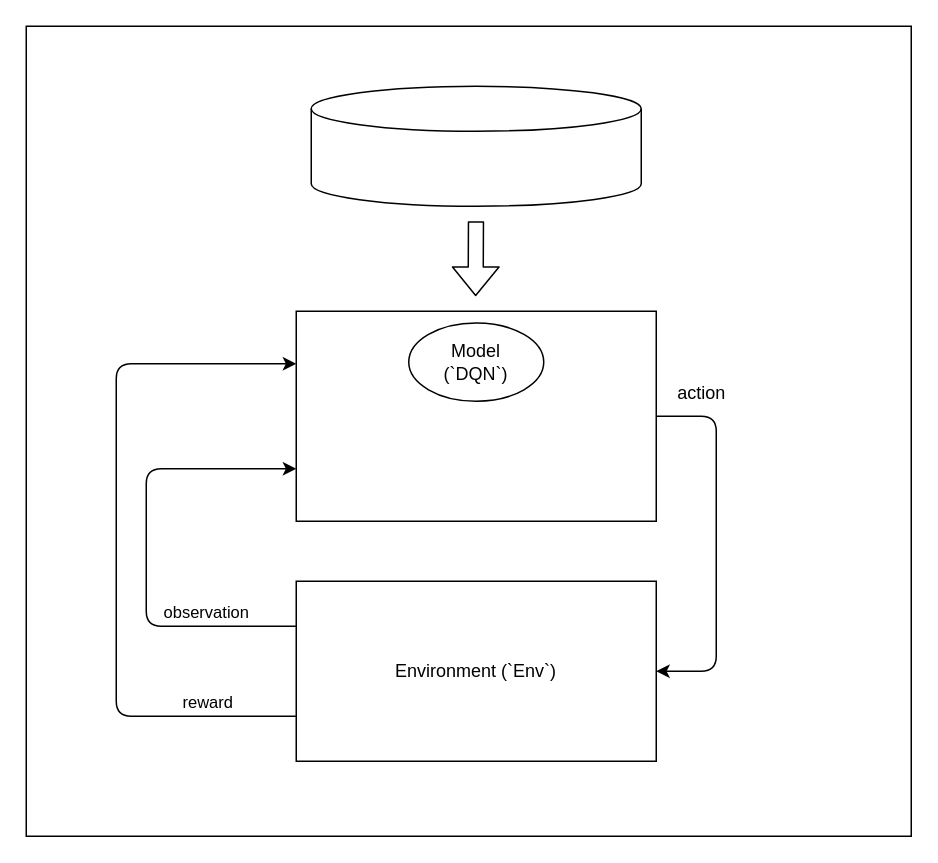
The diagram is 938 pixels wide and 863 high, and some of its shapes have lost their labels. Here are the shapes that lost their labels. From the top down, the box of each, then its label:
(310, 85, 641, 206): weights.pth
(295, 310, 656, 521): Agent (`Agent`)
